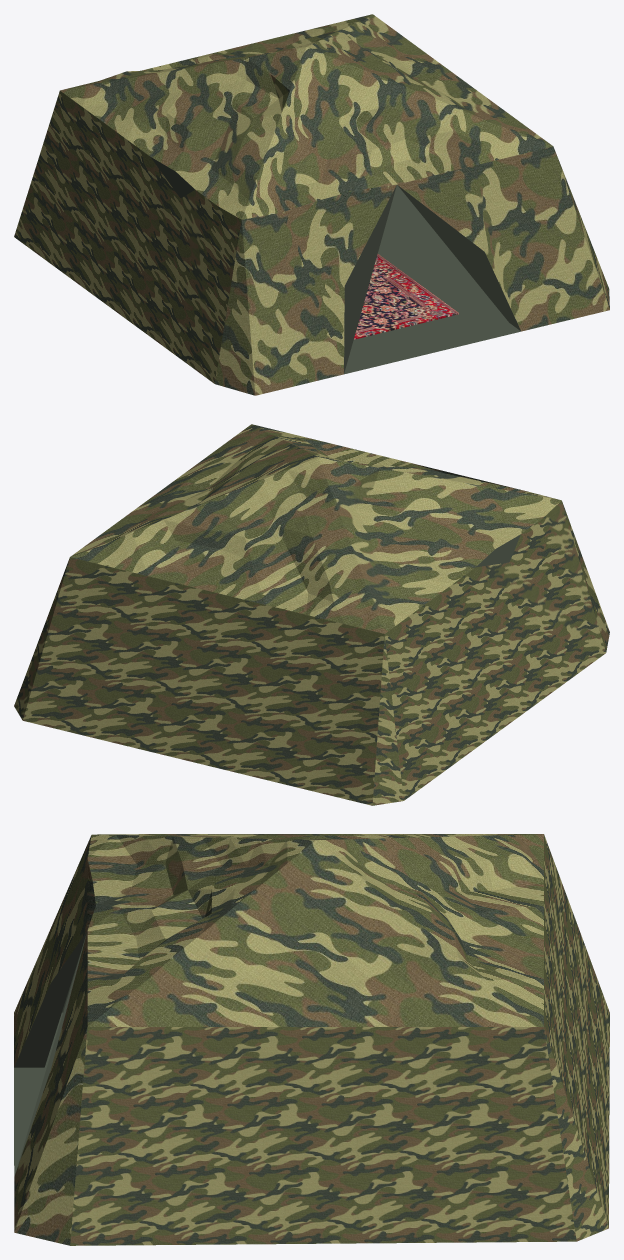
File: KGB 1.fbx
3 renders of one model, top to bottom at view 1: azimuth 30°, elevation 25°; view 2: azimuth 150°, elevation 25°; view 3: azimuth 270°, elevation 25°, orthographic. The views are drawn at different scales.
Parts seen in each view (by area): view 1: Cone, Kover; view 2: Cone; view 3: Cone.
Boxes of the visible parts, x1,y1,x2,y2 form: Cone: [14, 14, 609, 395]; Kover: [354, 254, 458, 339]; Cone: [14, 424, 609, 805]; Cone: [14, 834, 609, 1245].
Size of the model in its own units: 6654 by 3604 by 6889.
